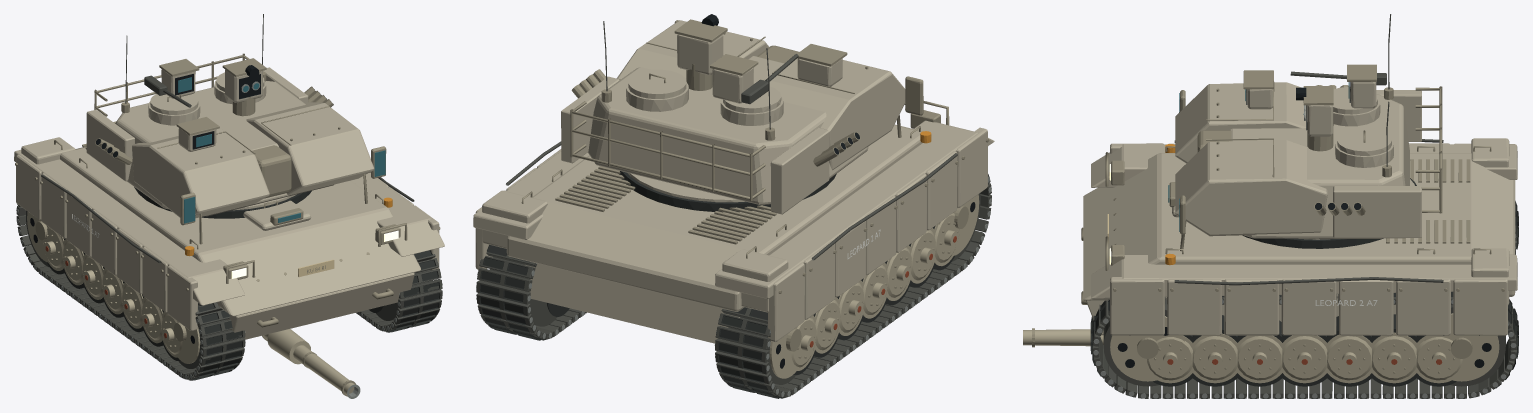
Rendered from leopard.glb.
The picture shows the model from 3 angles, left to right: view 1: azimuth 30°, elevation 25°; view 2: azimuth 150°, elevation 25°; view 3: azimuth 270°, elevation 25°; orthographic projection. The views are drawn at different scales.
Visible parts, largest first — view 1: body, turret, tracks, cannon; view 2: body, turret, tracks; view 3: body, turret, tracks, cannon.
Part boxes in pixels (x1,y1,x2,y2): body: (14, 137, 444, 339); turret: (86, 14, 392, 256); tracks: (16, 204, 442, 380); cannon: (262, 329, 360, 398); body: (473, 101, 994, 347); turret: (561, 14, 931, 214); tracks: (476, 174, 991, 398); body: (1081, 138, 1517, 364); turret: (1165, 14, 1442, 265); tracks: (1090, 201, 1518, 398); cannon: (1023, 328, 1103, 347).
Bounding box in the file's own units: 3.86 × 3.91 × 5.72.
